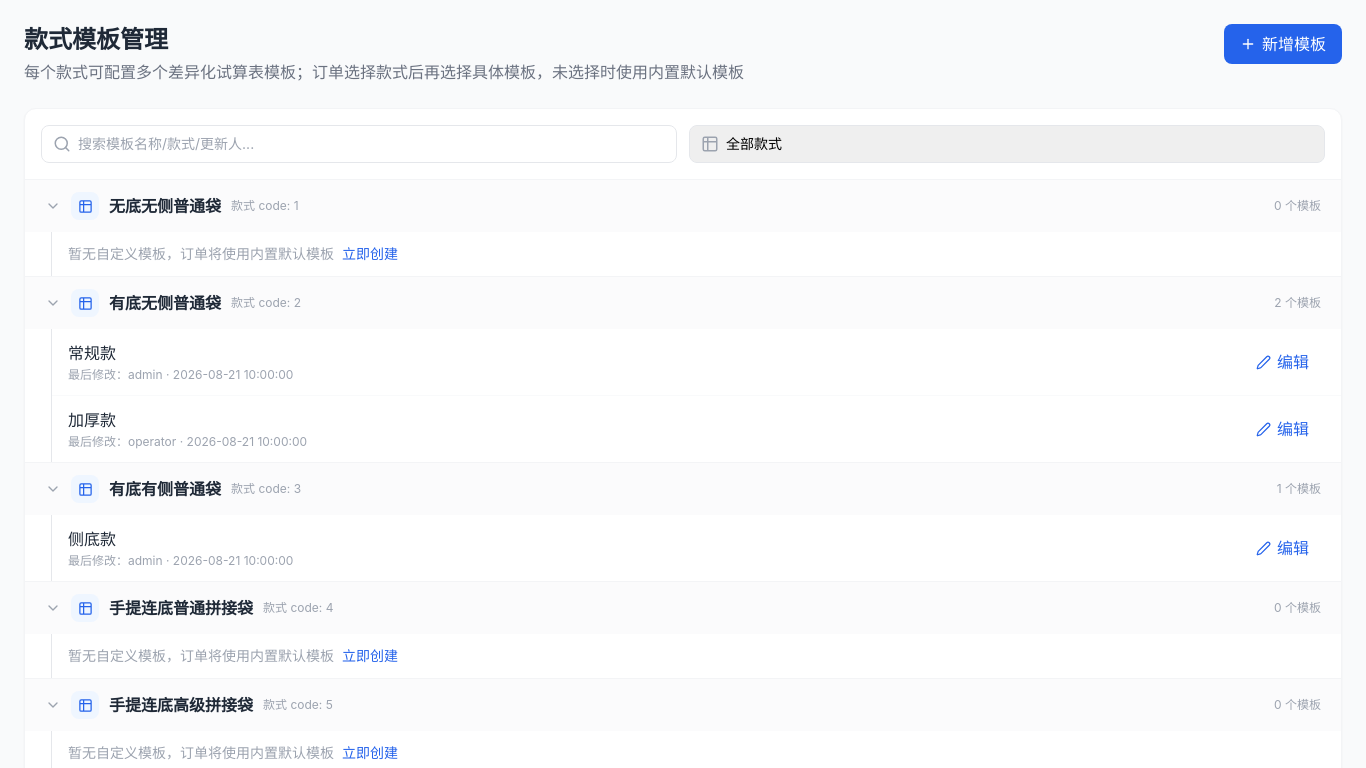
Test: 款式模板管理页 › 字段查询（与订单列表一致） › 按更新人搜索
This screenshot has width=1366, height=768.
Expected: the text "常规款" is shown, x1=68 y1=343 x2=116 y2=363
Type "operator" into the field with placeholder "搜索模板名称/款式/更新人..." at (359, 144), box x1=41 y1=125 x2=677 y2=163
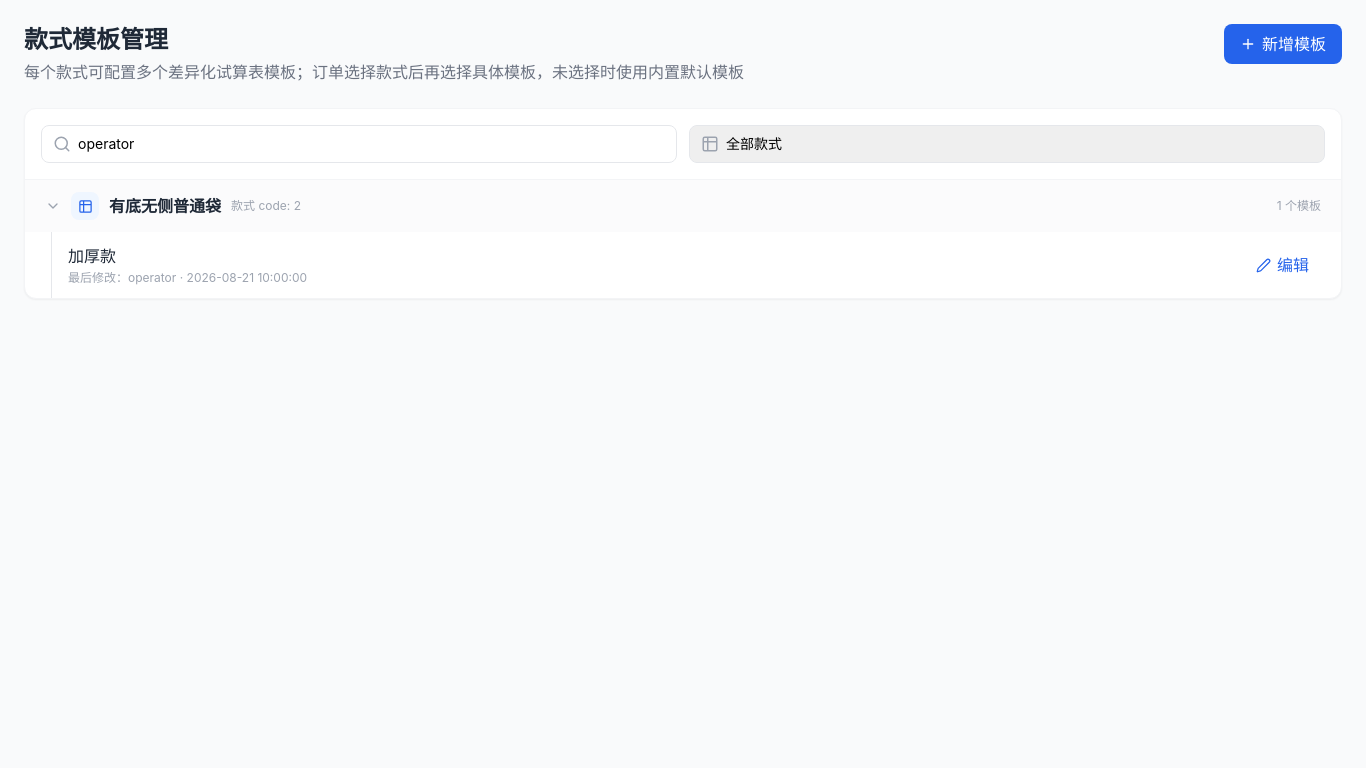
Expected: the text "加厚款" is shown, x1=68 y1=246 x2=116 y2=266
Result: the text "常规款" is gone
